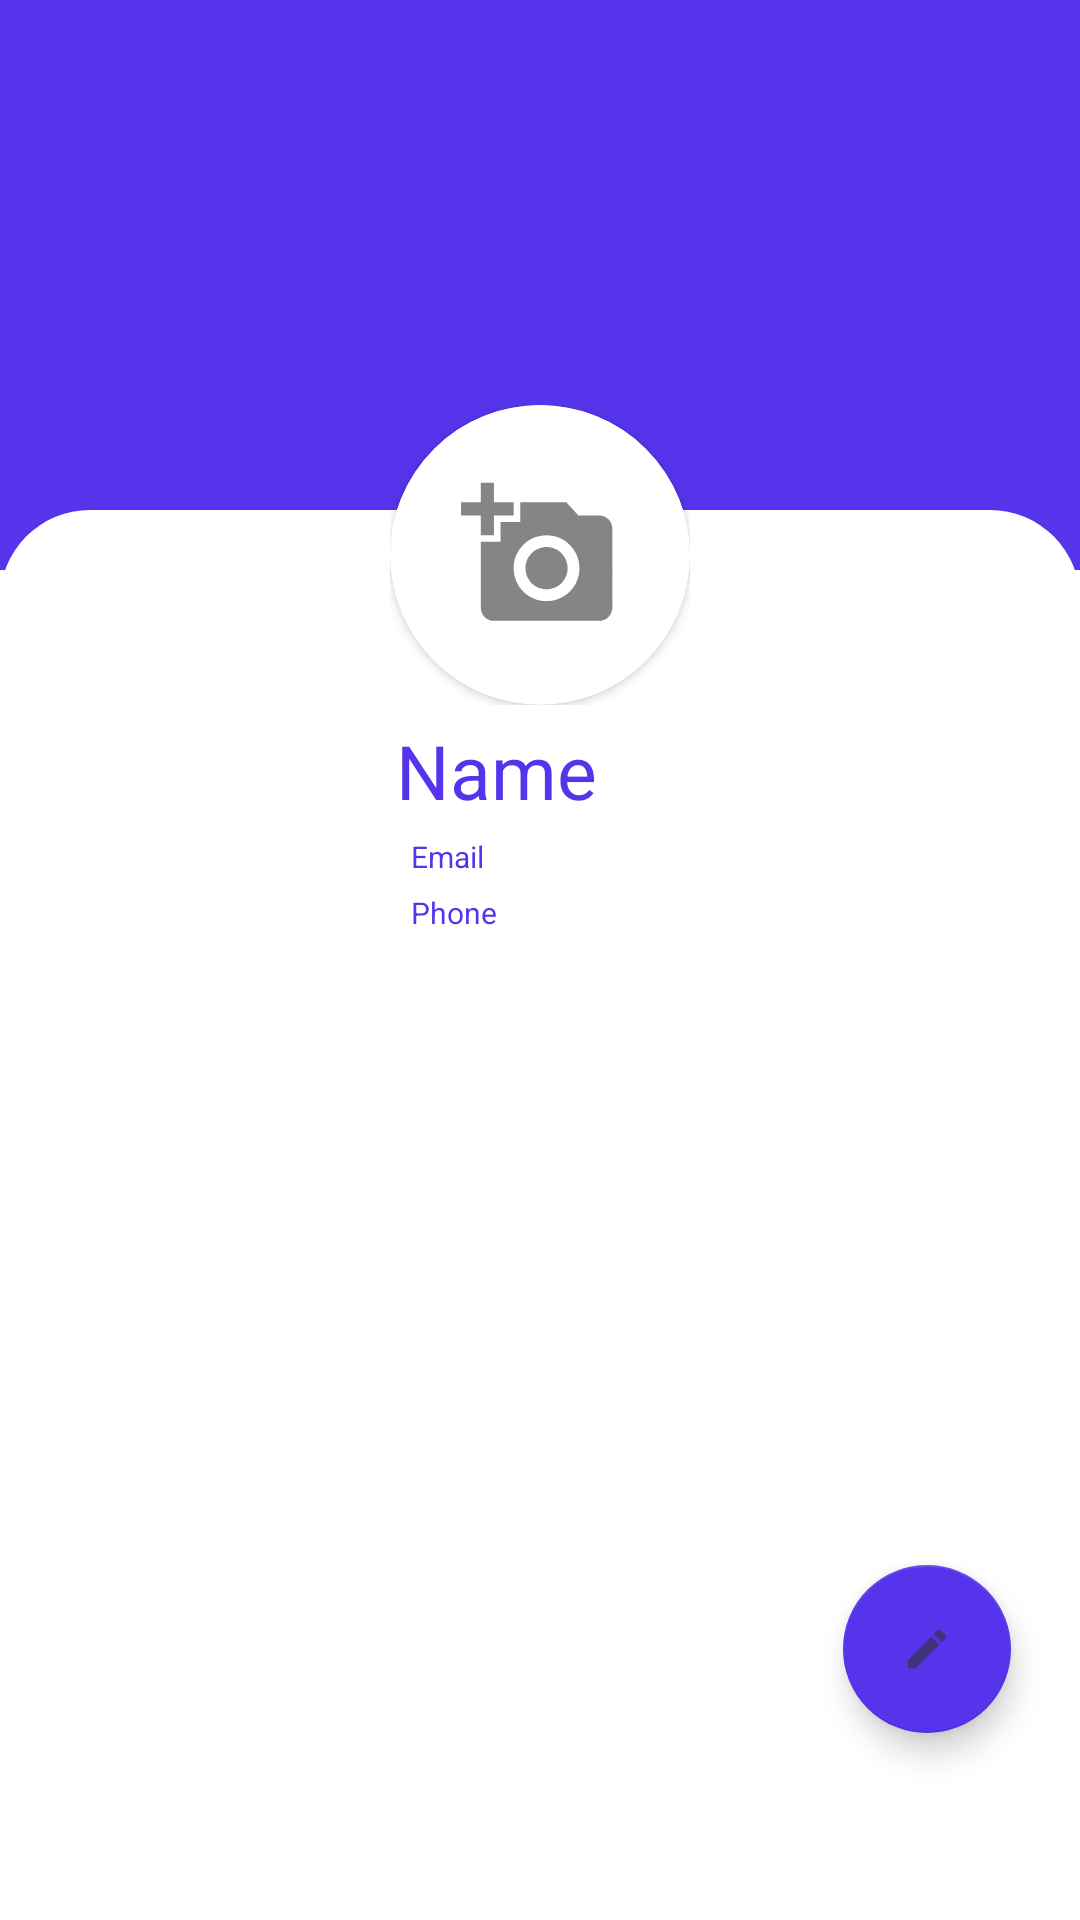

Named icons in this screenshot (1080x1920) and their centers, (x,y):
edit: (927,1649)
